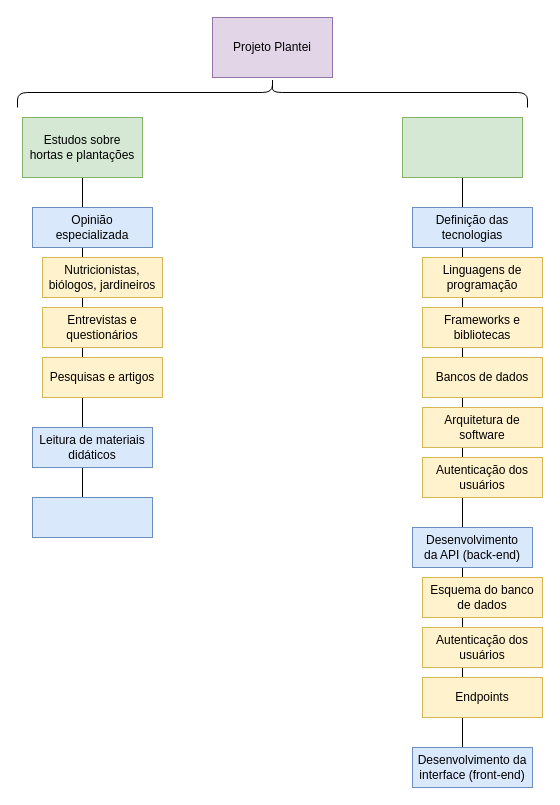
The diagram is 560 pixels wide and 805 high, and some of its shapes have lost their labels. Each missing label, with the box of its shape:
Criação de material de apoio: (32, 496, 152, 538)
Implementação do aplicativo: (402, 116, 522, 178)
